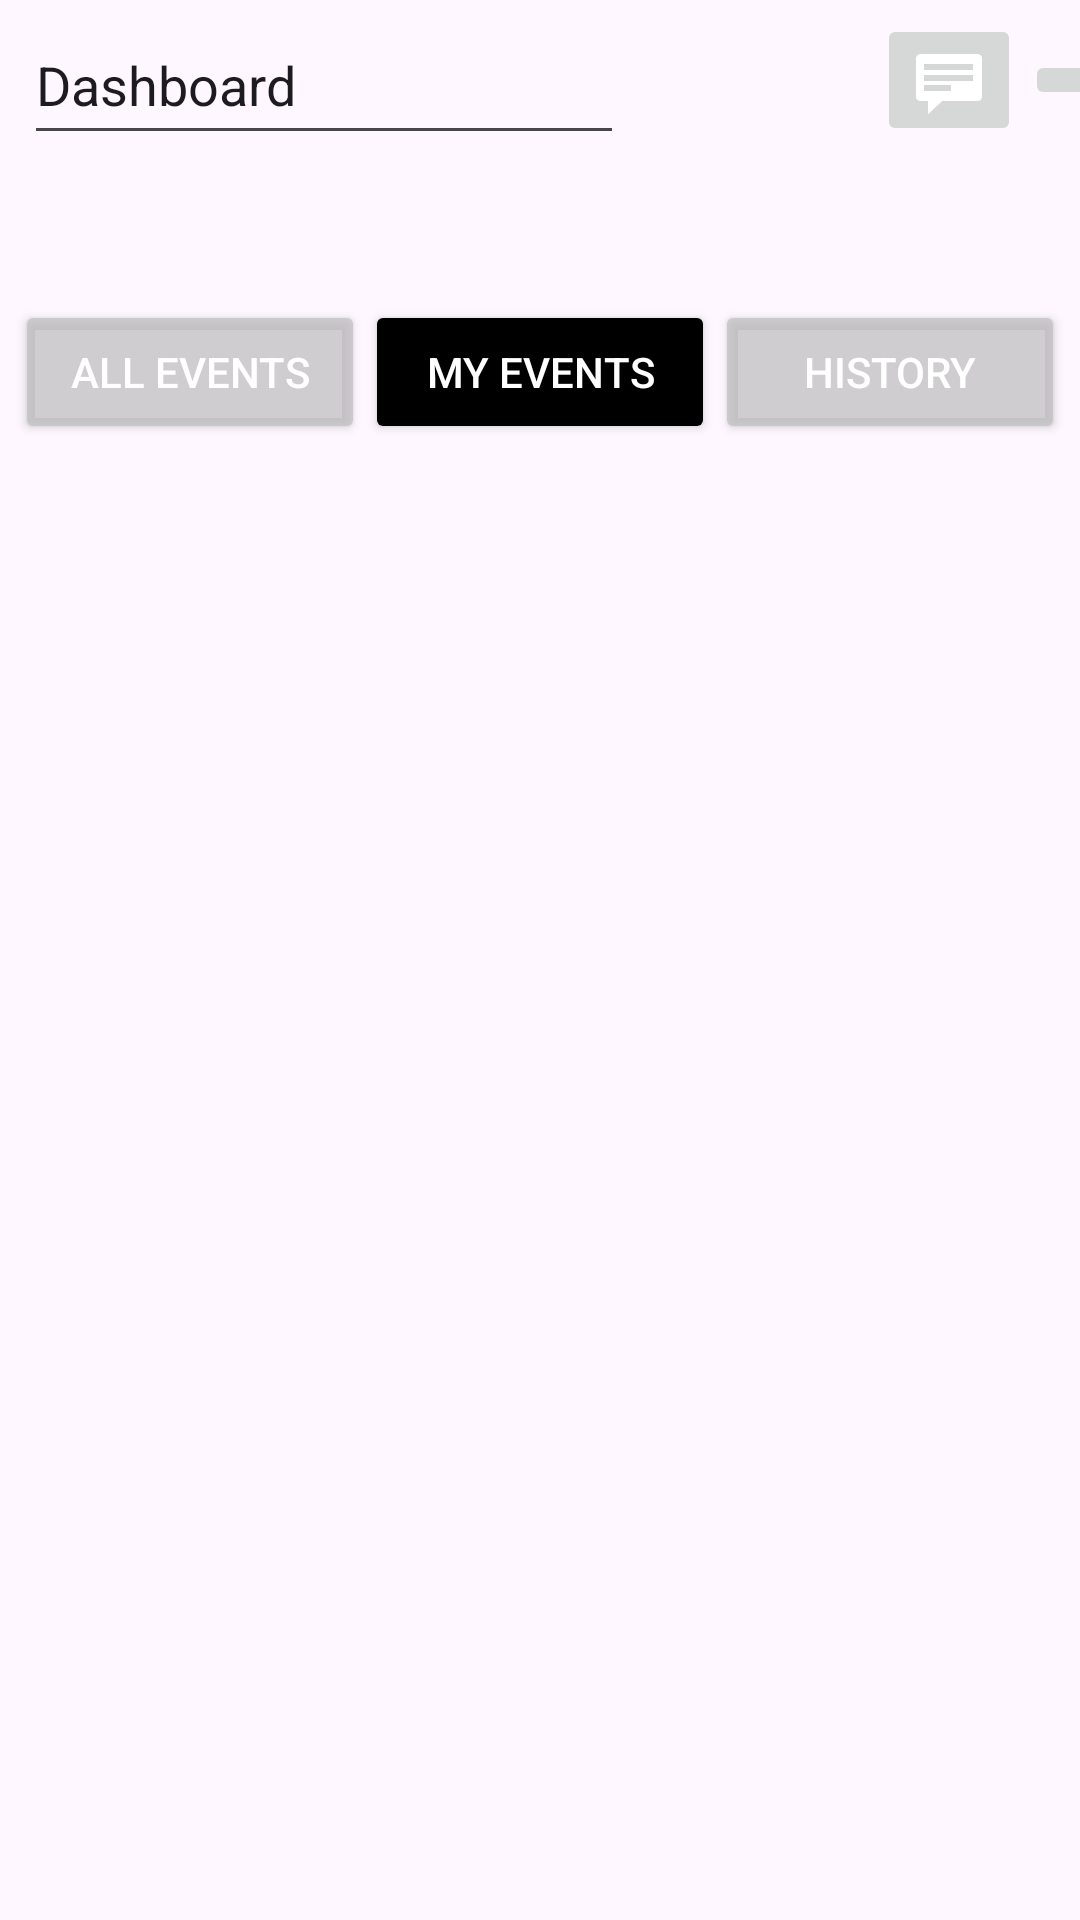

Screen size 1080×1920. Icon name, then its center in pixels as (x=x, y=y):
chat: (x=949, y=80)
